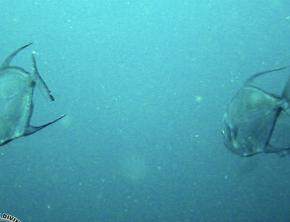Carangidae -Jacks-: (0, 33, 81, 150), (217, 50, 290, 161)
